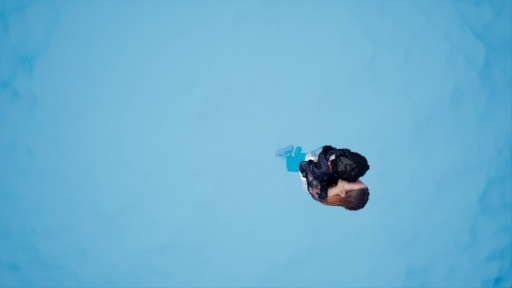person: (276, 143, 379, 215)
